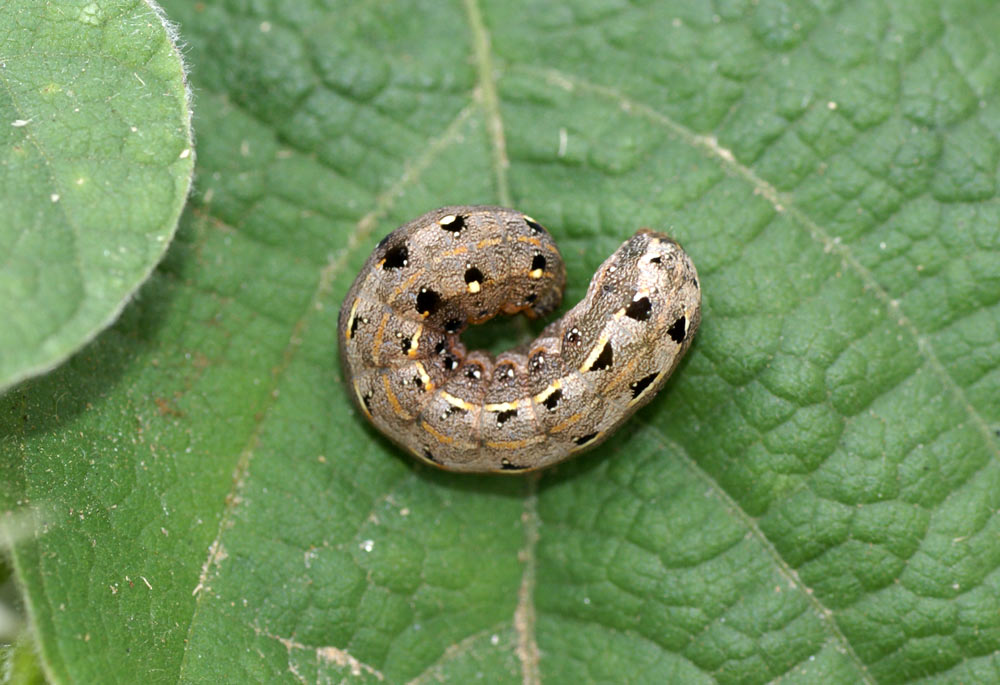Armyworm: (347, 193, 728, 496)
